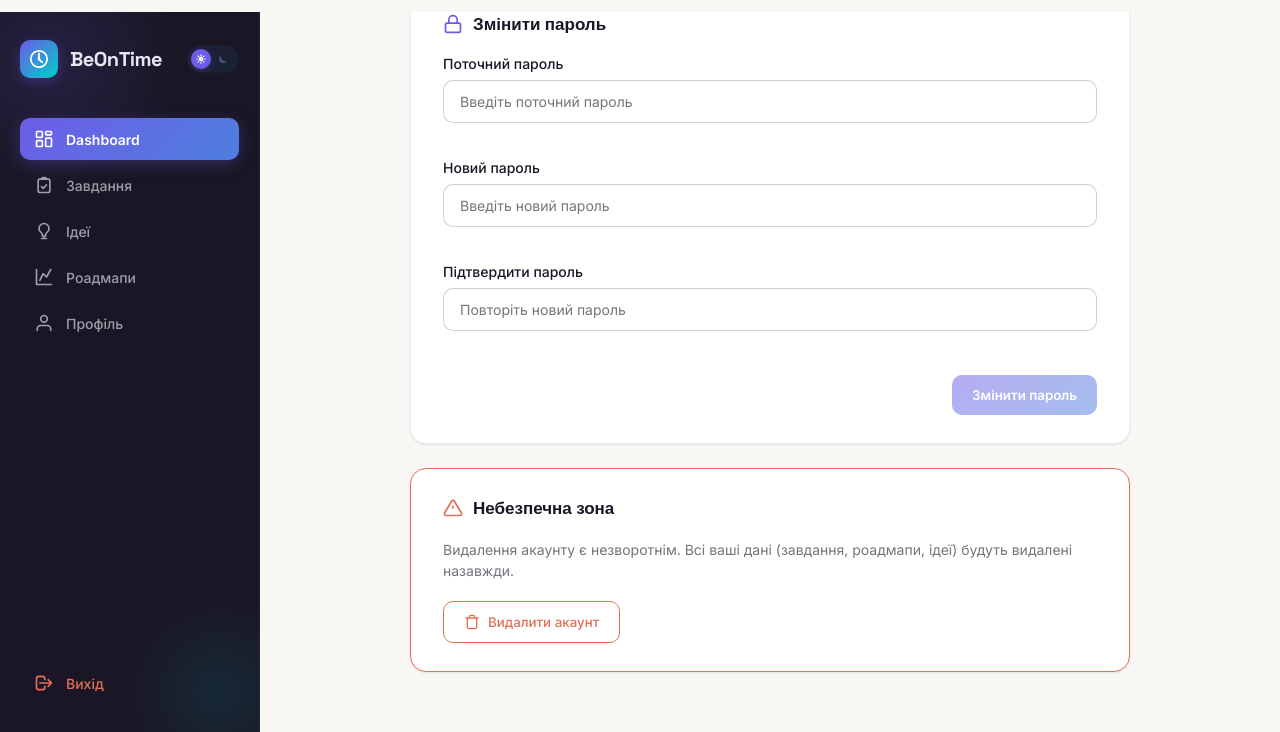
it: ProfilePage Component › повинен показувати підтвердження при кліку на "Видалити акаунт"
(page scrolled)
Click the button "Видалити акаунт" at point(532, 622), box [443,601,620,643]
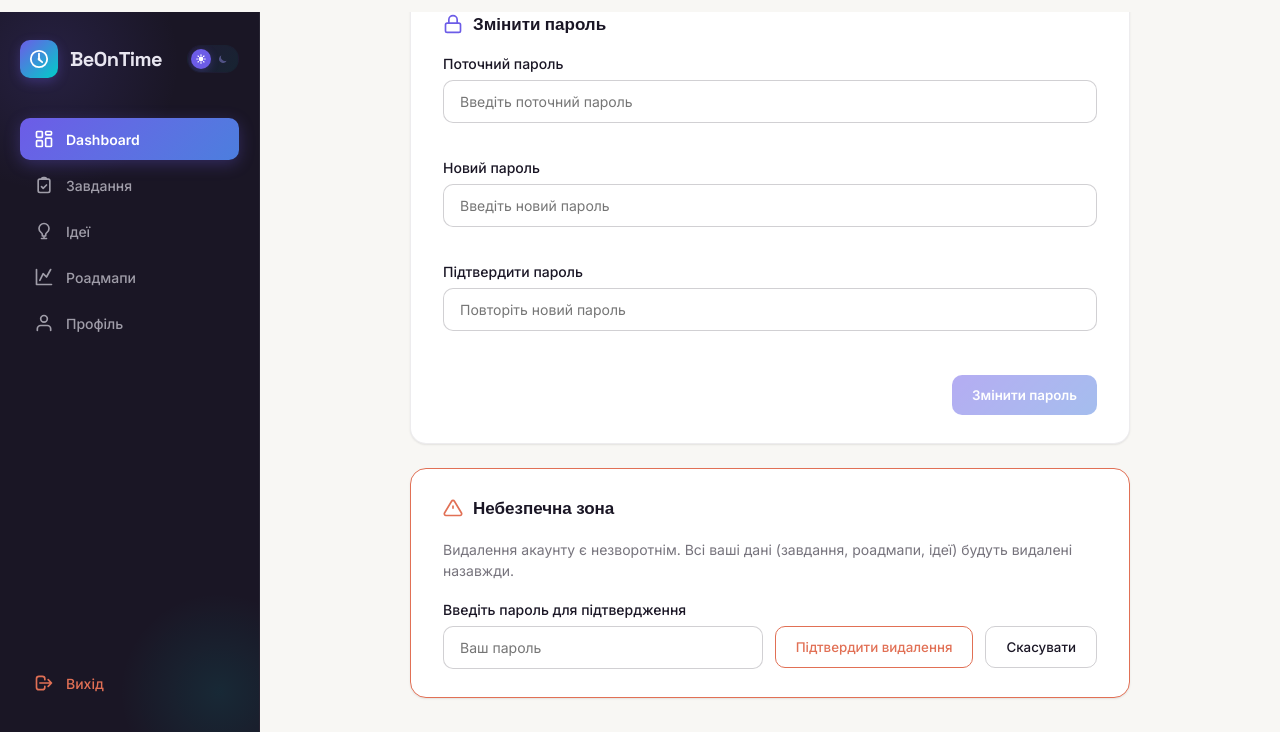
Expected: the text "Введіть пароль для підтвердження" is shown, [443,601,686,618]
Expected: the button "Підтвердити видалення" is shown, [775,626,973,668]
Expected: the button "Скасувати" is shown, [985,626,1097,668]
